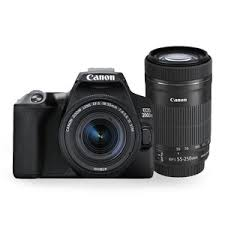camera: (14, 72, 153, 177)
